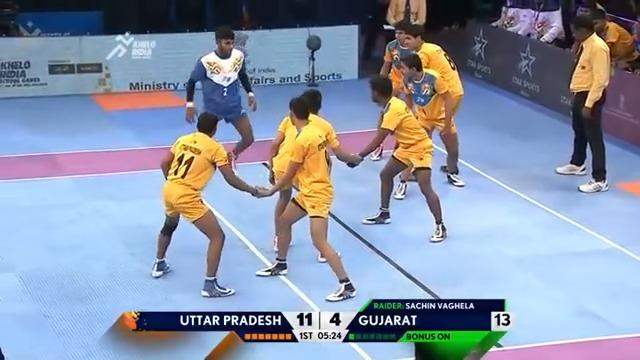Player: (252, 88, 363, 301), (150, 110, 269, 297), (347, 74, 448, 242), (391, 22, 466, 193), (554, 13, 612, 192)
Raider: (184, 25, 257, 172)
